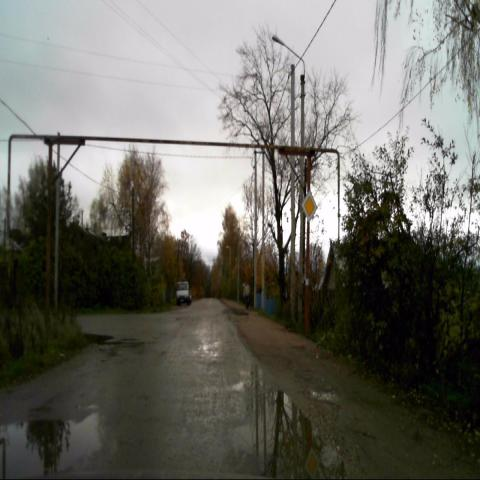2_1: (301, 188, 318, 222)
